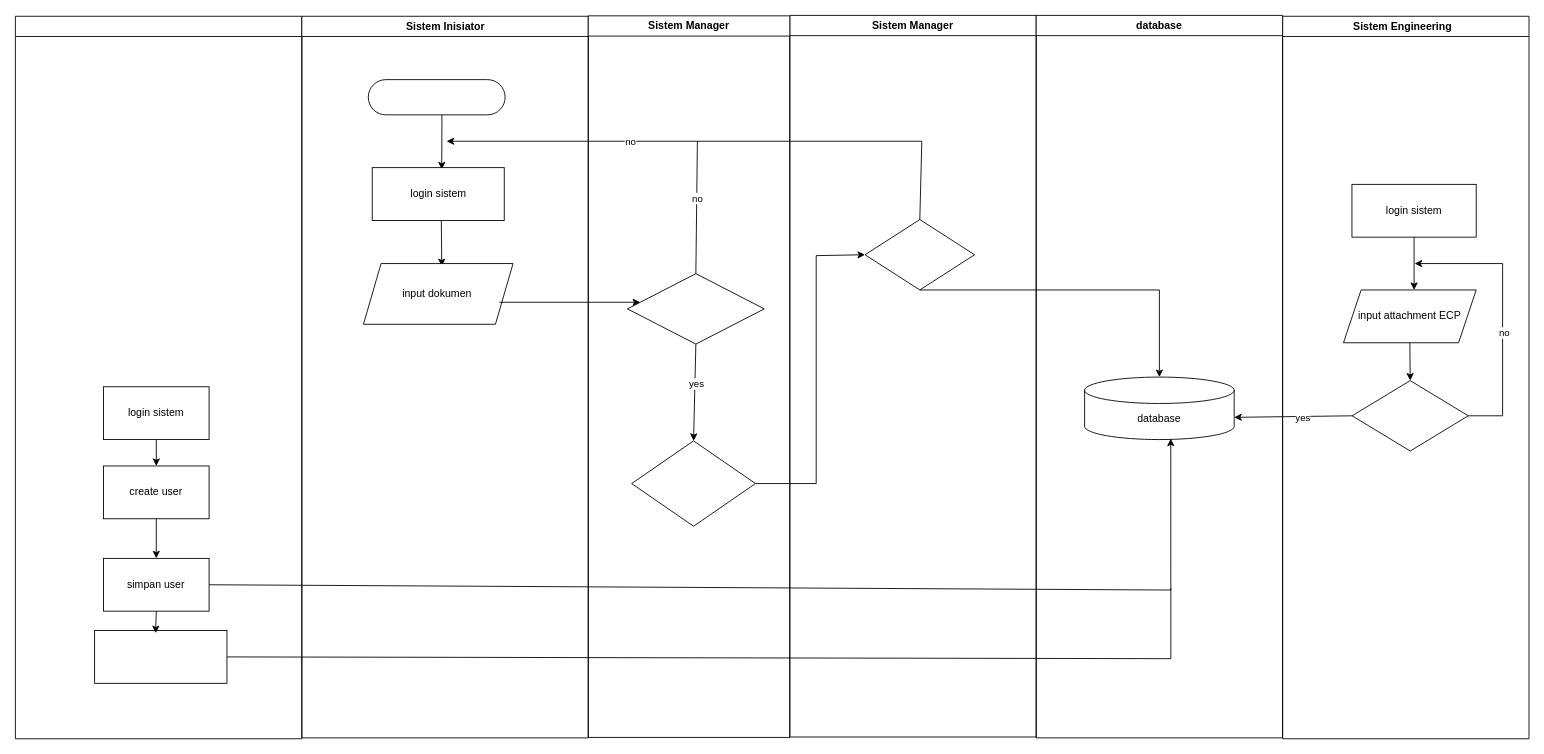
This 1544x754 diagram has some shape labels left out. The shapes that lost their labels are listed below. From the top down, each one's box as (x1, y1, x2, y2) in pixels, then its label:
(367, 79, 505, 115): Mulai
(864, 219, 975, 290): Approval Manager
(627, 273, 764, 344): pemeriksa 1 dokumen
(15, 15, 302, 739): Sistem Admin
(1351, 380, 1468, 451): file sesuai
(631, 440, 755, 526): pemeriksa 2 dokumen
(94, 630, 227, 683): control sistem & database
